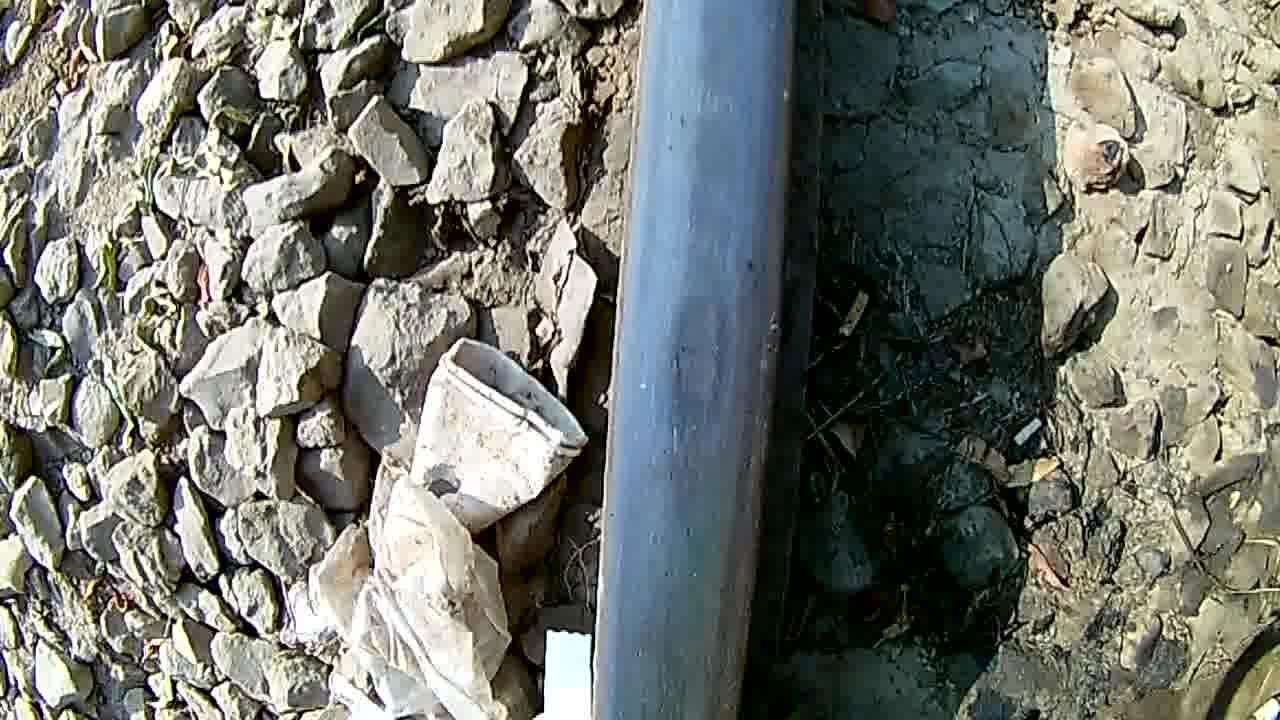bolt_missing: (612, 0, 808, 720)
